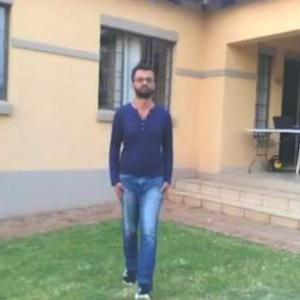follow: (109, 57, 177, 260)
